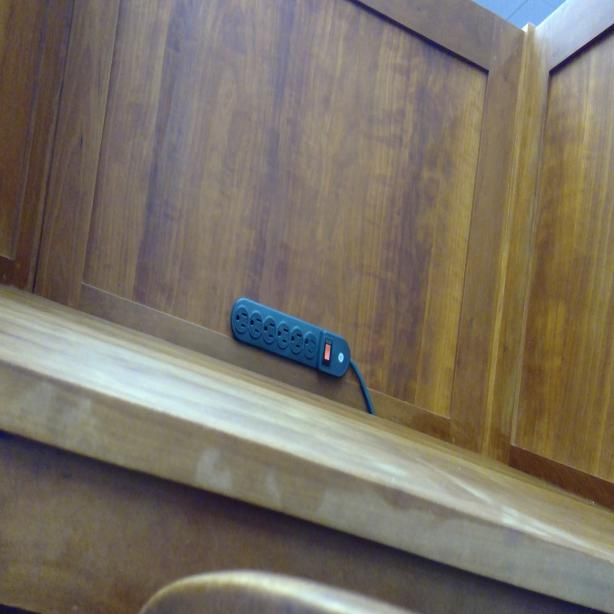typeb: (276, 322, 290, 349), (290, 327, 304, 353), (234, 306, 248, 332), (305, 334, 318, 360), (251, 312, 262, 339), (265, 318, 276, 341)
